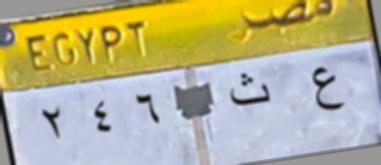2: (36, 105, 72, 142)
4: (86, 99, 116, 139)
6: (132, 88, 164, 137)
ain: (302, 60, 347, 120)
thaa: (227, 69, 272, 113)
